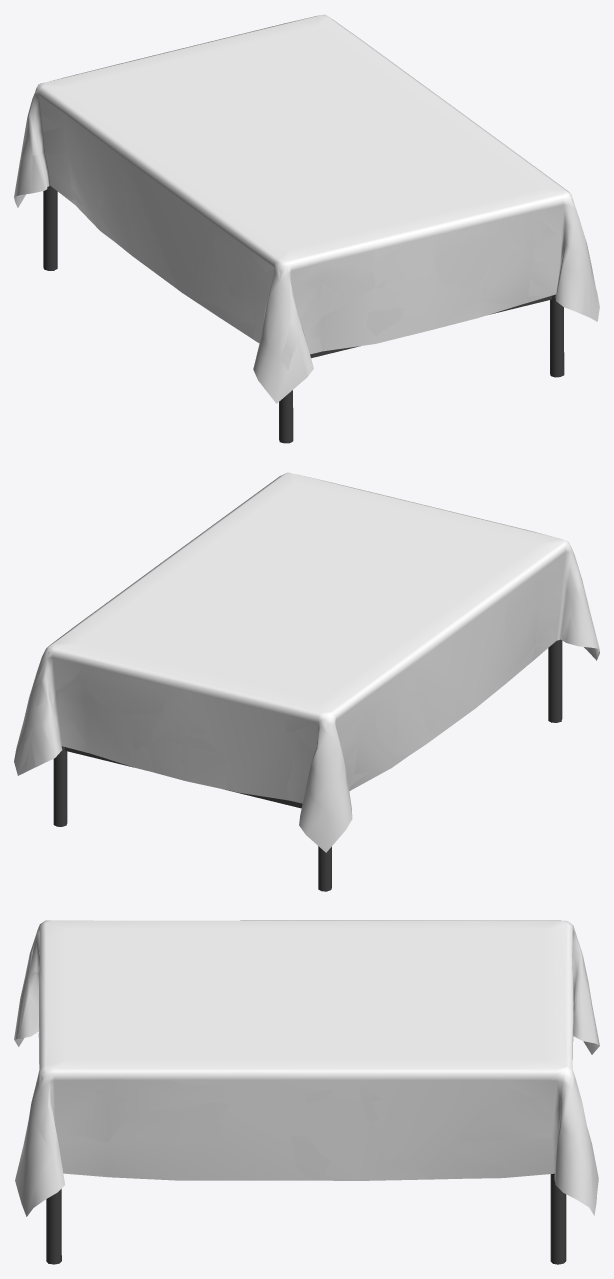
The model's file is pi_tabel01_02_02.gltf.
3 renders of one model, top to bottom at view 1: azimuth 30°, elevation 25°; view 2: azimuth 150°, elevation 25°; view 3: azimuth 270°, elevation 25°, orthographic. The views are drawn at different scales.
Parts seen in each view (by area): view 1: um_pi_tabel01_02_02_model_lod2Shape:pi_tabel01_cloth01_01_00, nomerge_pi_tabel01_cloth01_01_004_mesh_shape:pi_tabel01_clot, um_pi_tabel01_02_02_model_lod1Shape:pi_tabel01_cloth01_01_00, pi_tabel01_02_02, um_pi_tabel01_02_02_model_lod2Shape:pi_tabel01_01, um_pi_tabel01_02_02_model_lod1Shape:pi_tabel01_01; view 2: nomerge_pi_tabel01_cloth01_01_004_mesh_shape:pi_tabel01_clot, um_pi_tabel01_02_02_model_lod2Shape:pi_tabel01_cloth01_01_00, um_pi_tabel01_02_02_model_lod1Shape:pi_tabel01_cloth01_01_00, pi_tabel01_02_02, um_pi_tabel01_02_02_model_lod2Shape:pi_tabel01_01, um_pi_tabel01_02_02_model_lod1Shape:pi_tabel01_01; view 3: um_pi_tabel01_02_02_model_lod2Shape:pi_tabel01_cloth01_01_00, nomerge_pi_tabel01_cloth01_01_004_mesh_shape:pi_tabel01_clot, um_pi_tabel01_02_02_model_lod1Shape:pi_tabel01_cloth01_01_00, um_pi_tabel01_02_02_model_lod1Shape:pi_tabel01_01, um_pi_tabel01_02_02_model_lod2Shape:pi_tabel01_01, pi_tabel01_02_02.
Boxes of the visible parts, left/top/right/bottom form: um_pi_tabel01_02_02_model_lod2Shape:pi_tabel01_cloth01_01_00: left=14, top=14, right=599, bottom=403; nomerge_pi_tabel01_cloth01_01_004_mesh_shape:pi_tabel01_clot: left=14, top=16, right=595, bottom=403; um_pi_tabel01_02_02_model_lod1Shape:pi_tabel01_cloth01_01_00: left=27, top=17, right=564, bottom=351; pi_tabel01_02_02: left=43, top=187, right=560, bottom=443; um_pi_tabel01_02_02_model_lod2Shape:pi_tabel01_01: left=43, top=185, right=564, bottom=443; um_pi_tabel01_02_02_model_lod1Shape:pi_tabel01_01: left=43, top=187, right=563, bottom=441; nomerge_pi_tabel01_cloth01_01_004_mesh_shape:pi_tabel01_clot: left=14, top=472, right=599, bottom=852; um_pi_tabel01_02_02_model_lod2Shape:pi_tabel01_cloth01_01_00: left=14, top=472, right=599, bottom=852; um_pi_tabel01_02_02_model_lod1Shape:pi_tabel01_cloth01_01_00: left=37, top=478, right=585, bottom=789; pi_tabel01_02_02: left=54, top=639, right=562, bottom=891; um_pi_tabel01_02_02_model_lod2Shape:pi_tabel01_01: left=55, top=640, right=561, bottom=891; um_pi_tabel01_02_02_model_lod1Shape:pi_tabel01_01: left=53, top=652, right=556, bottom=890; um_pi_tabel01_02_02_model_lod2Shape:pi_tabel01_cloth01_01_00: left=14, top=920, right=599, bottom=1216; nomerge_pi_tabel01_cloth01_01_004_mesh_shape:pi_tabel01_clot: left=14, top=920, right=599, bottom=1213; um_pi_tabel01_02_02_model_lod1Shape:pi_tabel01_cloth01_01_00: left=38, top=920, right=575, bottom=1180; um_pi_tabel01_02_02_model_lod1Shape:pi_tabel01_01: left=46, top=1174, right=565, bottom=1264; um_pi_tabel01_02_02_model_lod2Shape:pi_tabel01_01: left=47, top=1173, right=566, bottom=1264; pi_tabel01_02_02: left=46, top=1174, right=565, bottom=1264.
Size of the model in its own units: 1.5 by 0.7608 by 2.06.
2 materials, 1 textured.
